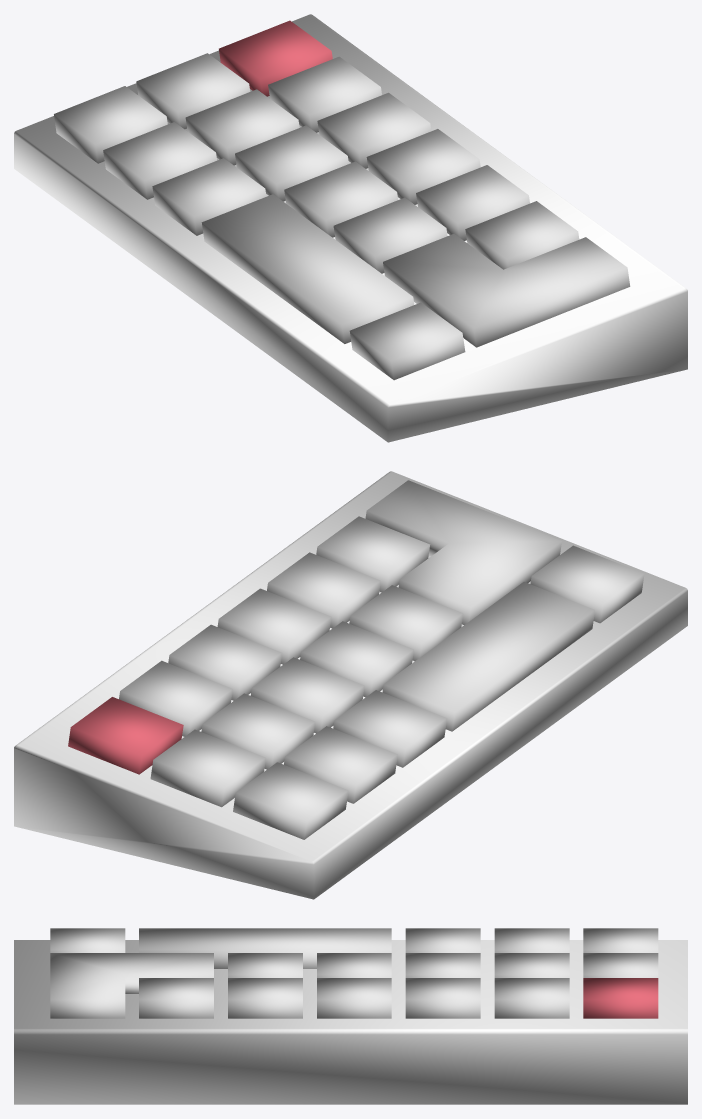
The model's file is keyboard.glb.
3 views of the same model, one above another, from view 1: azimuth 30°, elevation 25°; view 2: azimuth 150°, elevation 25°; view 3: azimuth 270°, elevation 25° (orthographic). The views are drawn at different scales.
Visible parts, largest first — view 1: Solid_40, Extruded.018, Extruded.013, Extruded.014, Extruded.015, Extruded.017, Extruded.016, Extruded.007, Extruded.006, Extruded.004, Extruded.005, Extruded.009 (+6 smaller); view 2: Solid_40, Extruded.013, Extruded.018, Extruded.015, Extruded.005, Extruded.008, Extruded.014, Extruded.017, Extruded.016, Extruded.003, Extruded.002, Extruded.010 (+6 smaller); view 3: Solid_40, Extruded.018, Extruded.013, Extruded.003, Extruded.004, Extruded.005, Extruded.002, Extruded.009, Extruded.011, Extruded.006, Extruded.007, Extruded.008 (+6 smaller).
Boxes of the visible parts, left/top/right/bottom form: Solid_40: left=14, top=14, right=687, bottom=442; Extruded.018: left=383, top=234, right=630, bottom=347; Extruded.013: left=201, top=194, right=414, bottom=343; Extruded.014: left=349, top=302, right=465, bottom=380; Extruded.015: left=54, top=86, right=167, bottom=163; Extruded.017: left=103, top=122, right=216, bottom=199; Extruded.016: left=152, top=158, right=266, bottom=235; Extruded.007: left=185, top=89, right=299, bottom=165; Extruded.006: left=235, top=125, right=348, bottom=201; Extruded.004: left=268, top=56, right=381, bottom=132; Extruded.005: left=219, top=20, right=332, bottom=96; Extruded.009: left=366, top=129, right=480, bottom=204; Solid_40: left=14, top=471, right=687, bottom=899; Extruded.013: left=382, top=582, right=594, bottom=731; Extruded.018: left=365, top=480, right=561, bottom=624; Extruded.015: left=233, top=762, right=348, bottom=839; Extruded.005: left=68, top=697, right=183, bottom=774; Extruded.008: left=150, top=729, right=265, bottom=807; Extruded.014: left=530, top=545, right=644, bottom=623; Extruded.017: left=284, top=726, right=397, bottom=803; Extruded.016: left=333, top=690, right=447, bottom=767; Extruded.003: left=168, top=624, right=282, bottom=700; Extruded.002: left=316, top=516, right=430, bottom=592; Extruded.010: left=300, top=621, right=413, bottom=697; Solid_40: left=14, top=940, right=687, bottom=1104; Extruded.018: left=50, top=953, right=213, bottom=1018; Extruded.013: left=139, top=928, right=391, bottom=968; Extruded.003: left=405, top=978, right=480, bottom=1018; Extruded.004: left=494, top=978, right=569, bottom=1018; Extruded.005: left=583, top=978, right=658, bottom=1018; Extruded.002: left=139, top=978, right=213, bottom=1018; Extruded.009: left=317, top=978, right=391, bottom=1018; Extruded.011: left=228, top=978, right=302, bottom=1018; Extruded.006: left=405, top=953, right=480, bottom=977; Extruded.007: left=494, top=953, right=569, bottom=977; Extruded.008: left=583, top=953, right=658, bottom=977.
Bounding box in the file's own units: 4.35 × 1.34 × 9.39.
